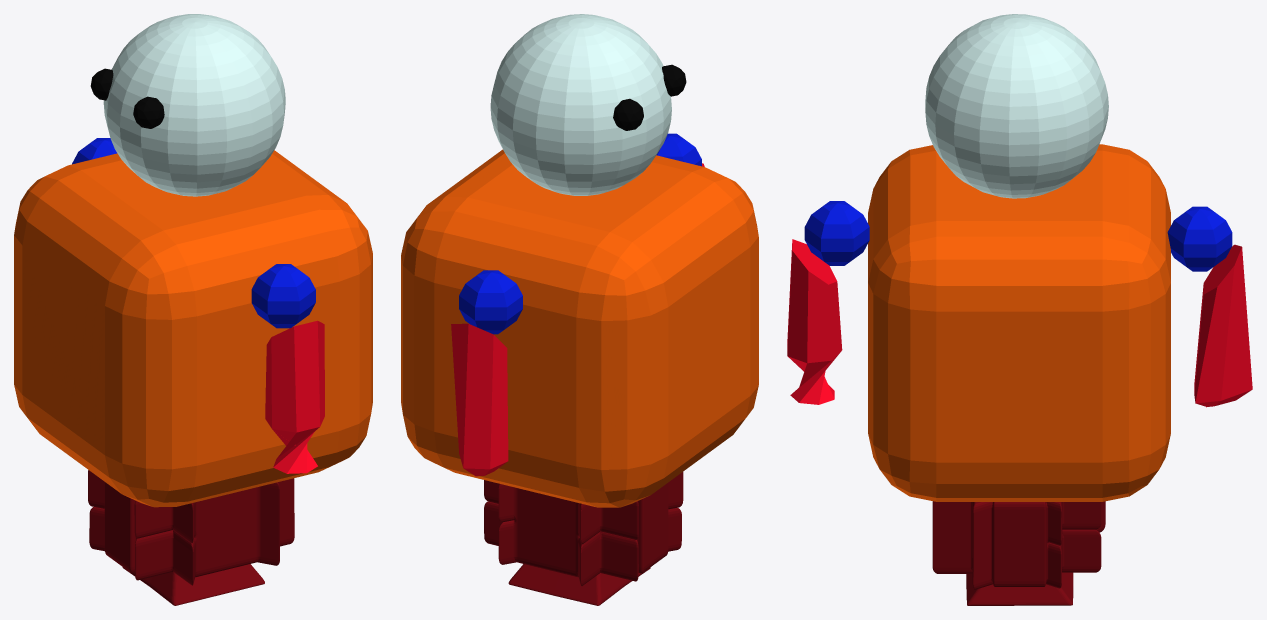
The model's file is flyingUnit.fbx.
The picture shows the model from 3 angles, left to right: view 1: azimuth 30°, elevation 25°; view 2: azimuth 150°, elevation 25°; view 3: azimuth 270°, elevation 25°; orthographic projection.
Visible parts, largest first — view 1: Cube, Sphere.002, Cube.001, Cylinder, Sphere.001, Icosphere.001, Sphere, Icosphere; view 2: Cube, Sphere.002, Cube.001, Cylinder.001, Sphere, Sphere.001, Icosphere, Icosphere.001; view 3: Cube, Sphere.002, Cube.001, Cylinder.001, Cylinder, Sphere.001, Sphere.
Boxes of the visible parts, box(x1,y1,x2,y2) form: Cube: box(14, 150, 372, 507); Sphere.002: box(103, 14, 285, 196); Cube.001: box(88, 470, 294, 605); Cylinder: box(265, 320, 324, 473); Sphere.001: box(251, 264, 315, 328); Icosphere.001: box(133, 96, 164, 128); Sphere: box(72, 138, 116, 164); Icosphere: box(90, 68, 113, 100); Cube: box(401, 149, 758, 507); Sphere.002: box(490, 14, 671, 195); Cube.001: box(484, 472, 683, 605); Cylinder.001: box(451, 323, 508, 476); Sphere: box(459, 270, 522, 334); Sphere.001: box(656, 133, 701, 166); Icosphere: box(613, 98, 643, 130); Icosphere.001: box(662, 64, 686, 96); Cube: box(868, 144, 1170, 501); Sphere.002: box(925, 14, 1108, 198); Cube.001: box(932, 501, 1105, 605); Cylinder.001: box(1194, 244, 1252, 407); Cylinder: box(787, 239, 842, 404); Sphere.001: box(804, 201, 869, 265); Sphere: box(1167, 206, 1232, 271).
Size of the model in its own units: 200 by 409 by 307.
